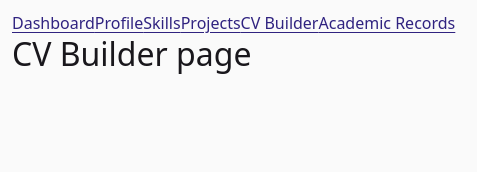
Test: RootLayout › keeps both Sprint 5 pages inside the same persistent Student workspace shell
This screenshot has width=477, height=172.
Expected: the heading "CV Builder page" is shown, [12, 32, 252, 75]
Click the link "Academic Records".
click(387, 23)  # box [318, 12, 455, 34]
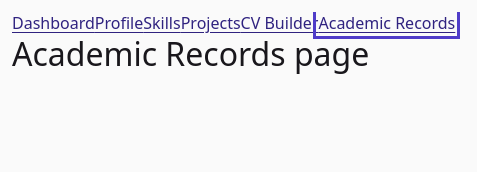
Expected: the heading "Academic Records page" is shown, [12, 32, 369, 75]
